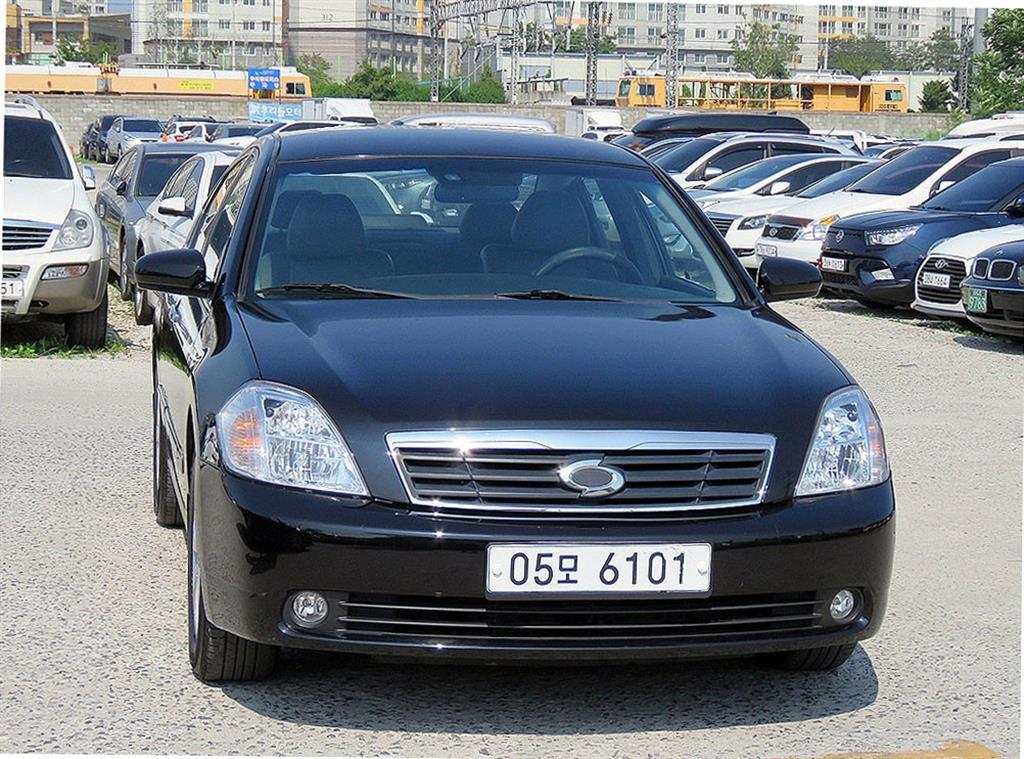plate: (488, 544, 711, 592)
